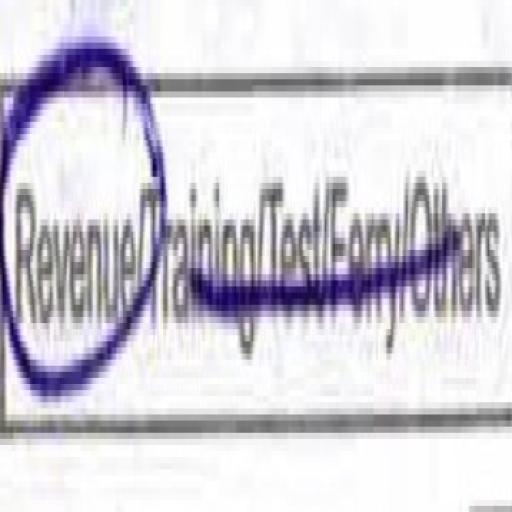check: (0, 0, 143, 504)
